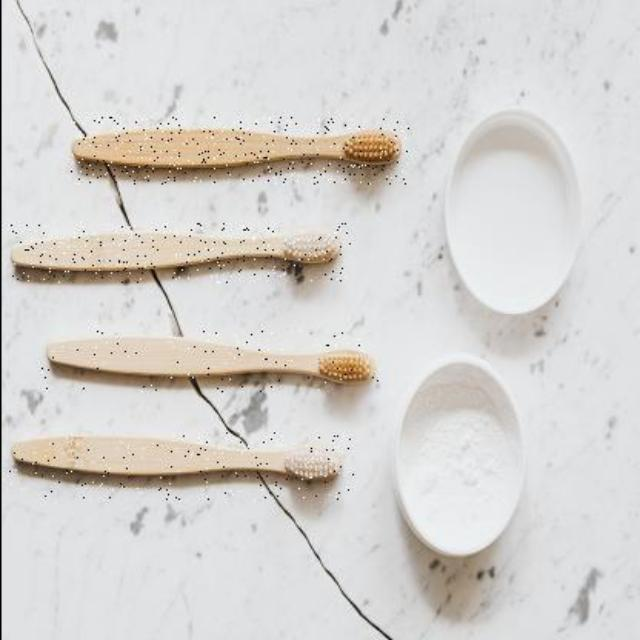toothbrush: (8, 433, 352, 503), (66, 118, 408, 184), (38, 332, 386, 392), (8, 222, 348, 282)
